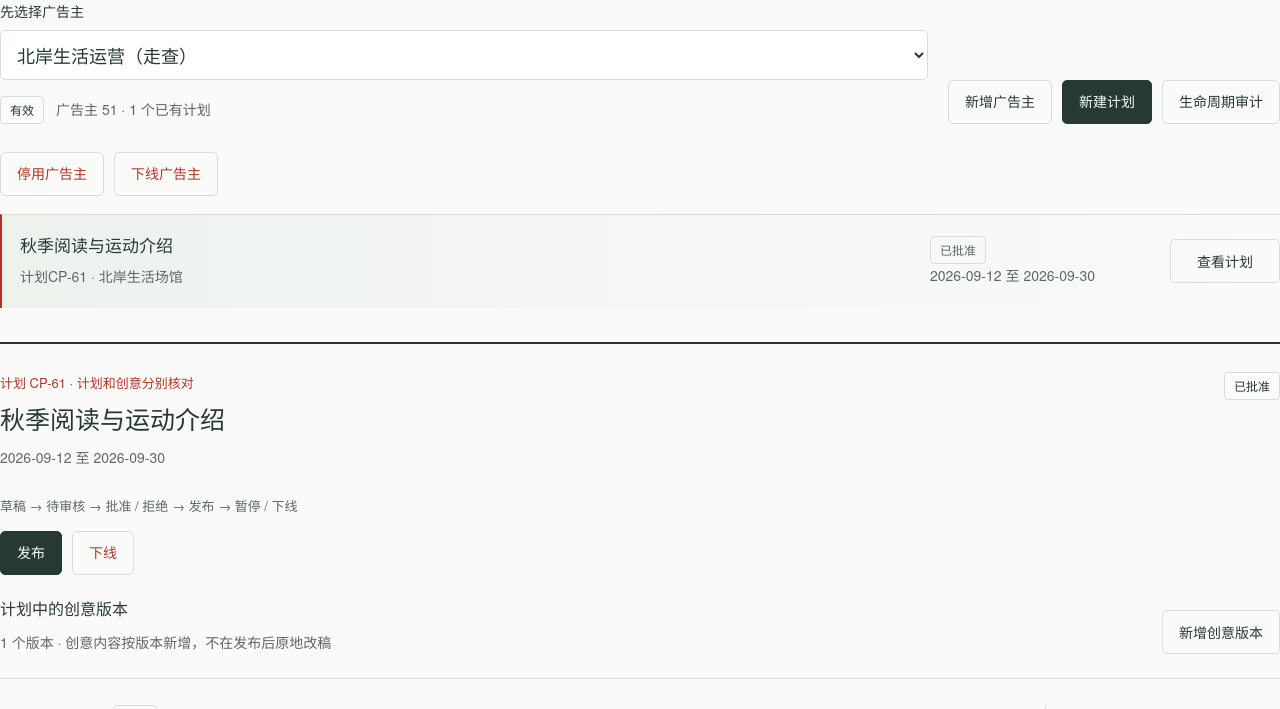
商业广告面（B5-G5…G9 一比一重建） › 审计子视图以原因代码+状态变迁呈现（不含说明原文，B5-G5/G9）
The width and height of the screenshot is (1280, 709).
Click the button with test id "ad-open-audit". click: (1221, 102)
box: [1162,80,1279,124]
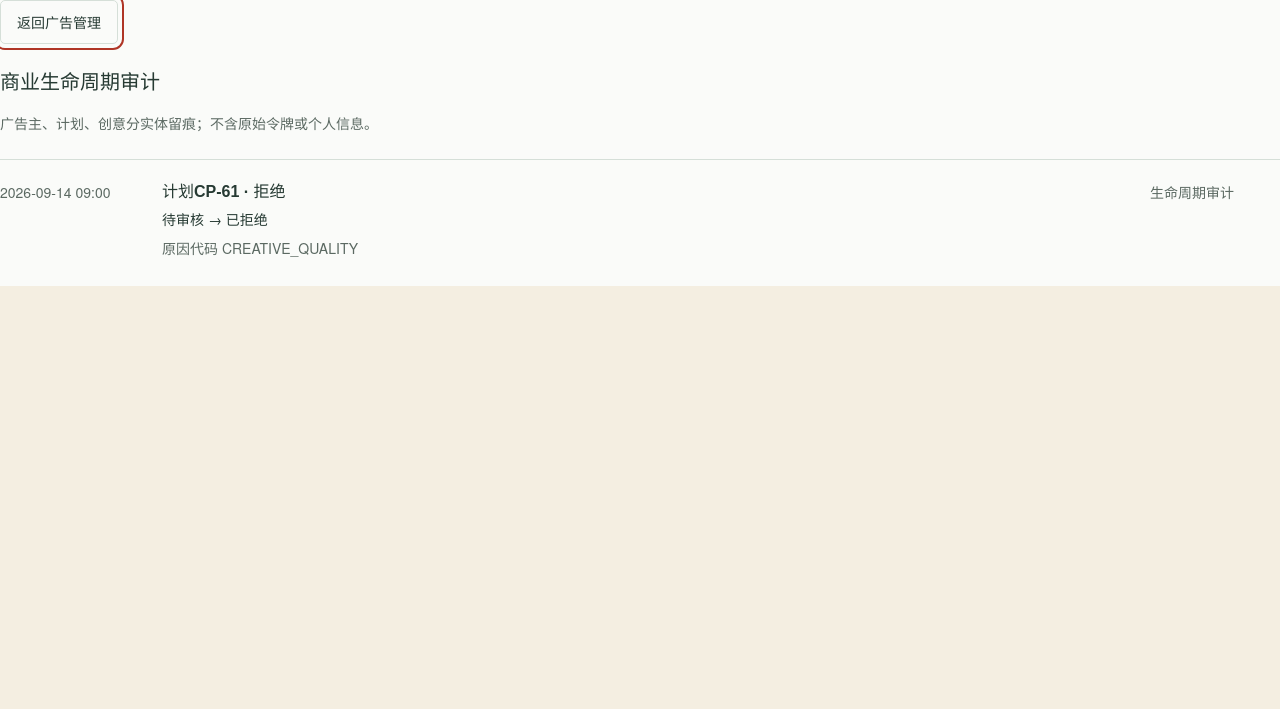
Now the text "商业生命周期审计" is shown, box [0,71,160,93]
Now the text "计划CP-61 · 拒绝" is shown, box [162,183,286,200]
Now the text "待审核 → 已拒绝" is shown, box [162,210,268,230]
